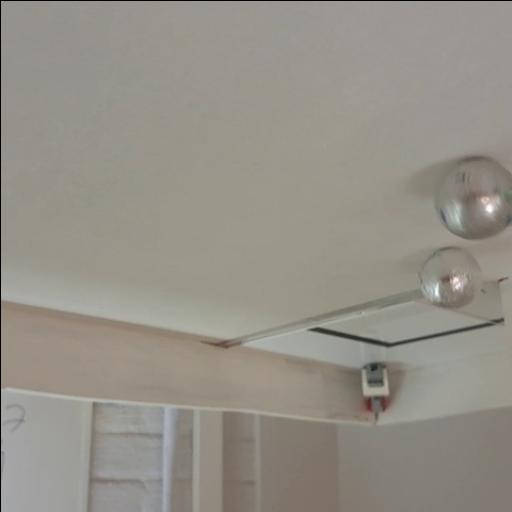alive: (433, 157, 512, 240), (418, 244, 482, 308)
